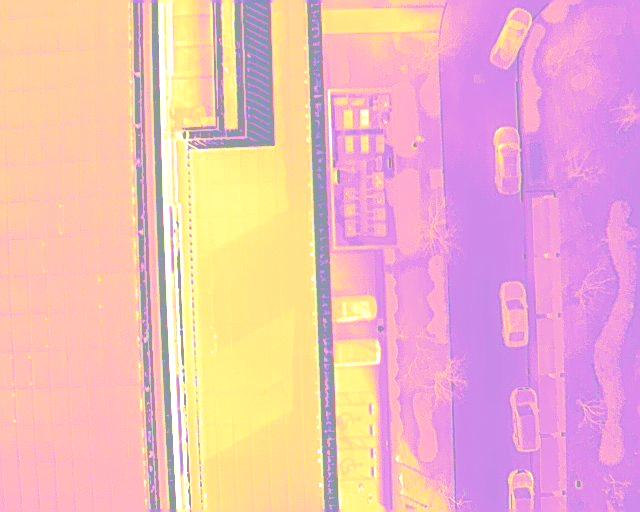Cell-Multi: (30, 313, 50, 352), (14, 351, 33, 391), (113, 11, 132, 50), (115, 160, 134, 198), (28, 240, 47, 277), (85, 274, 104, 311), (127, 460, 146, 497), (113, 48, 132, 85), (116, 197, 135, 232), (46, 201, 63, 238), (122, 311, 139, 346)
No-Anomaly: (41, 53, 63, 92), (5, 128, 26, 168), (95, 11, 117, 49), (78, 84, 98, 125), (7, 201, 27, 241), (90, 423, 110, 463), (86, 348, 107, 386), (42, 123, 61, 165), (79, 11, 99, 50), (59, 14, 79, 53), (23, 16, 43, 55), (5, 18, 25, 57), (109, 424, 129, 463), (61, 125, 81, 164), (40, 16, 61, 53), (98, 160, 119, 197), (68, 312, 88, 350), (105, 348, 125, 386), (89, 385, 109, 423), (73, 424, 92, 464), (59, 50, 78, 90), (63, 198, 82, 238), (19, 462, 40, 498), (101, 234, 120, 273), (103, 272, 122, 311), (25, 127, 44, 166), (38, 461, 58, 498), (7, 165, 27, 202), (1, 463, 22, 498), (64, 236, 83, 274), (7, 91, 26, 129), (25, 165, 44, 203), (83, 197, 102, 235), (4, 54, 23, 92), (83, 235, 101, 275), (10, 240, 30, 276), (10, 279, 30, 315), (70, 387, 90, 423), (18, 424, 36, 464), (77, 50, 97, 86), (96, 124, 116, 160), (30, 277, 49, 314), (12, 315, 31, 352), (28, 200, 46, 239), (60, 86, 78, 125), (62, 163, 80, 202), (92, 461, 112, 496), (110, 463, 130, 498), (66, 275, 84, 313), (103, 312, 122, 348), (54, 424, 72, 462), (96, 49, 114, 87), (23, 53, 41, 91), (95, 85, 113, 123), (47, 238, 65, 275), (49, 314, 67, 351), (33, 388, 51, 425), (36, 424, 54, 461), (43, 163, 61, 200), (48, 277, 67, 312), (79, 123, 96, 162), (53, 387, 71, 423), (16, 389, 34, 425), (81, 161, 99, 197), (107, 386, 125, 421), (42, 89, 60, 124), (70, 350, 87, 387), (51, 350, 68, 387), (33, 351, 50, 388), (101, 196, 118, 233), (56, 463, 75, 496), (75, 463, 94, 496), (25, 90, 42, 126), (86, 313, 103, 348), (123, 349, 139, 385), (128, 424, 144, 460)
Unclassified: (118, 234, 137, 274), (113, 83, 133, 121), (125, 385, 144, 424), (120, 273, 138, 310), (116, 124, 134, 160)
